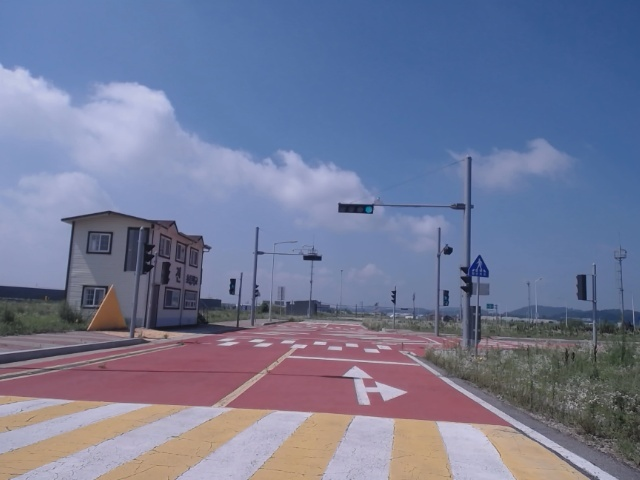straight_green_4: (338, 205, 374, 214)
